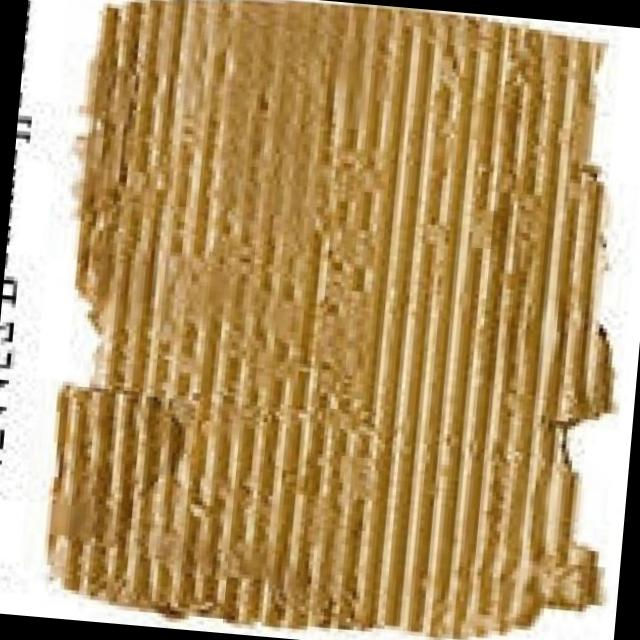cardboard paper: (50, 0, 612, 634)
